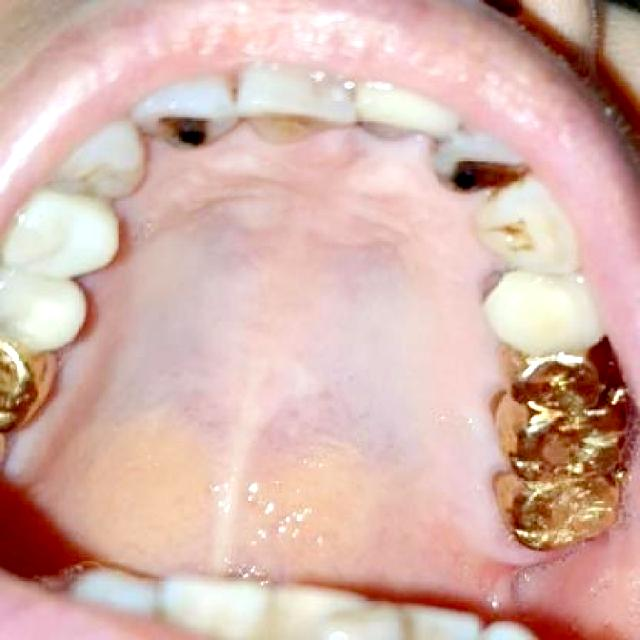Plaque: (460, 373, 529, 560)
